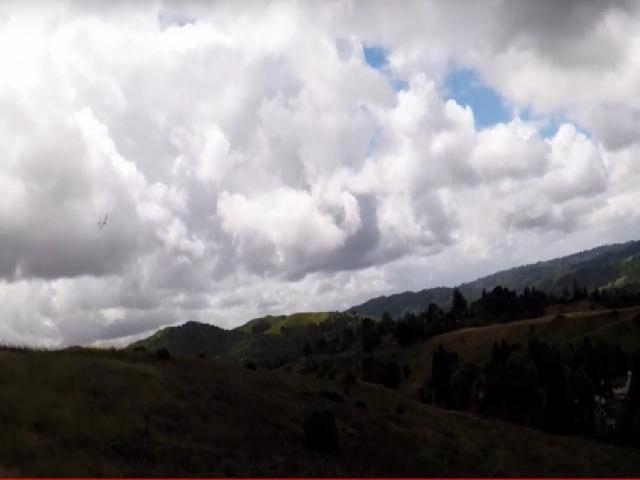iha: (91, 210, 114, 234)
